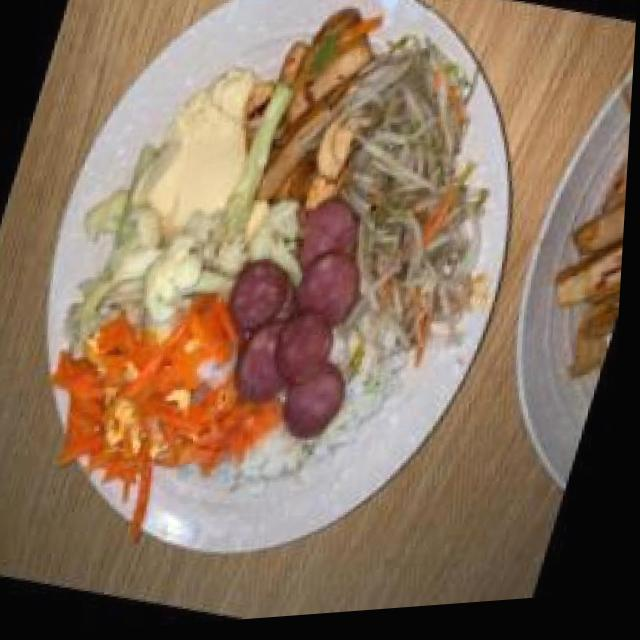carrot_eggs: (46, 268, 277, 516)
chinese_sausage: (195, 181, 405, 457)
mung_bean_sprouts: (301, 31, 538, 337)
